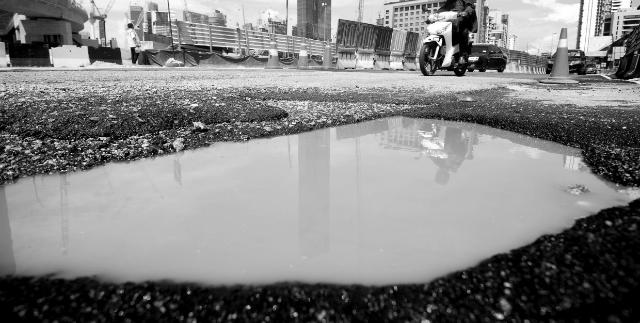Pothole: (0, 114, 640, 290)
